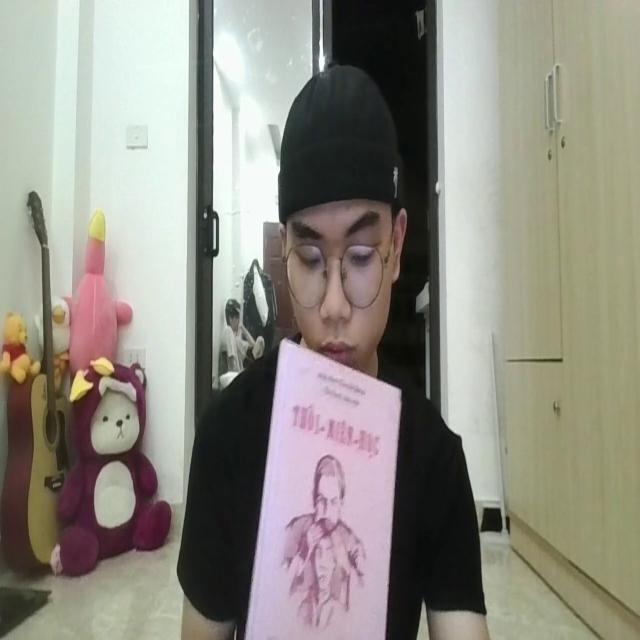book: (250, 329, 404, 640)
student: (181, 58, 483, 640)
